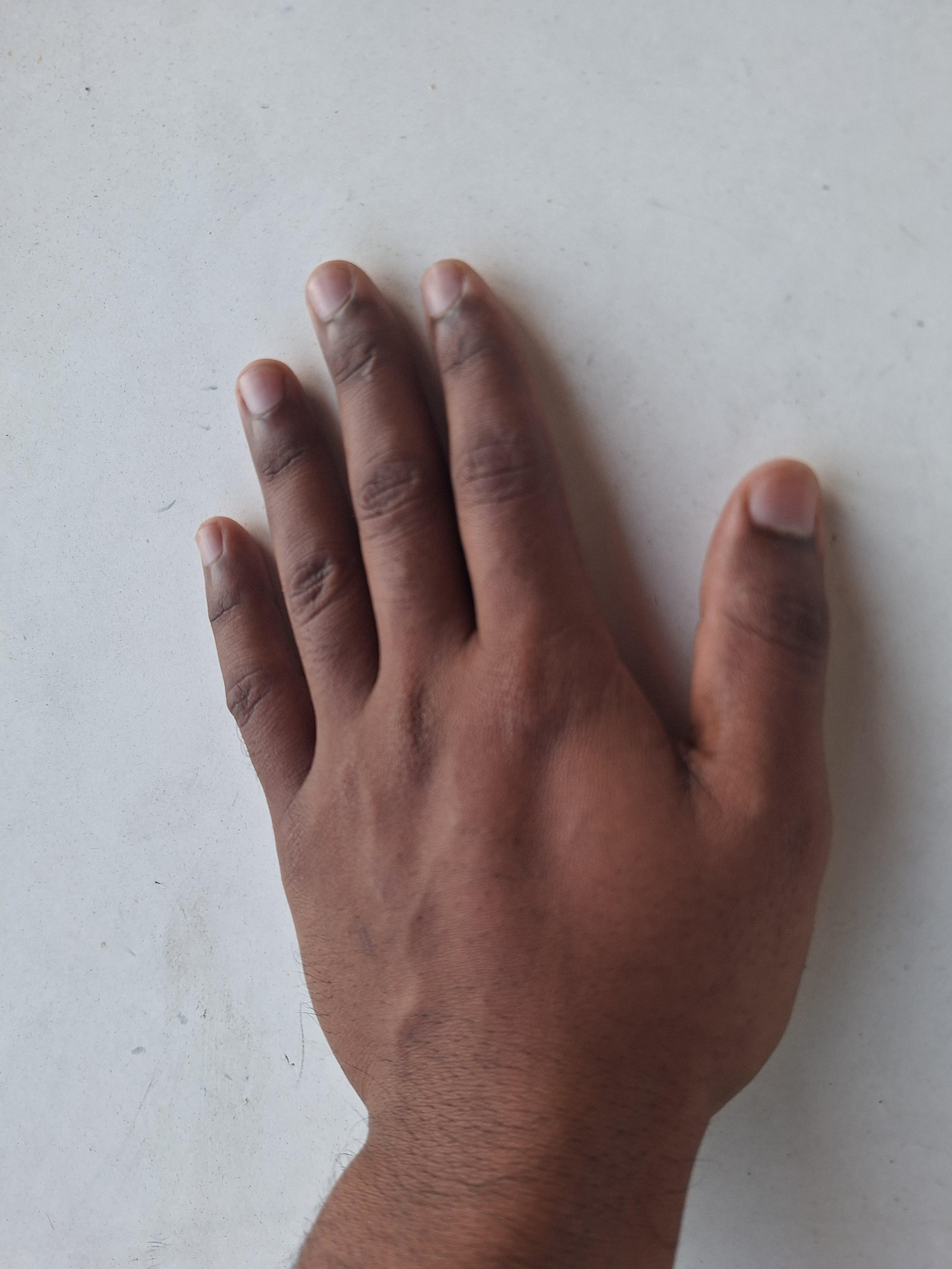Fingernail: (747, 462, 819, 538), (309, 266, 352, 321), (240, 366, 285, 416), (423, 261, 461, 318), (194, 525, 222, 568)
